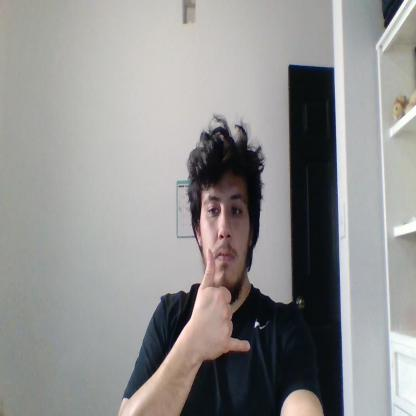Y: (192, 249, 250, 359)
